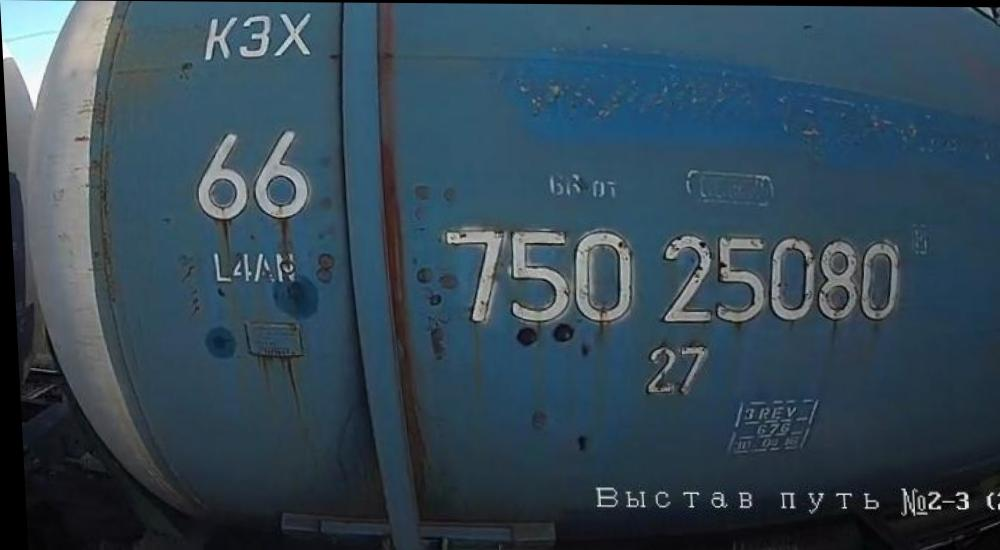Wagon-number: (437, 223, 902, 329)
